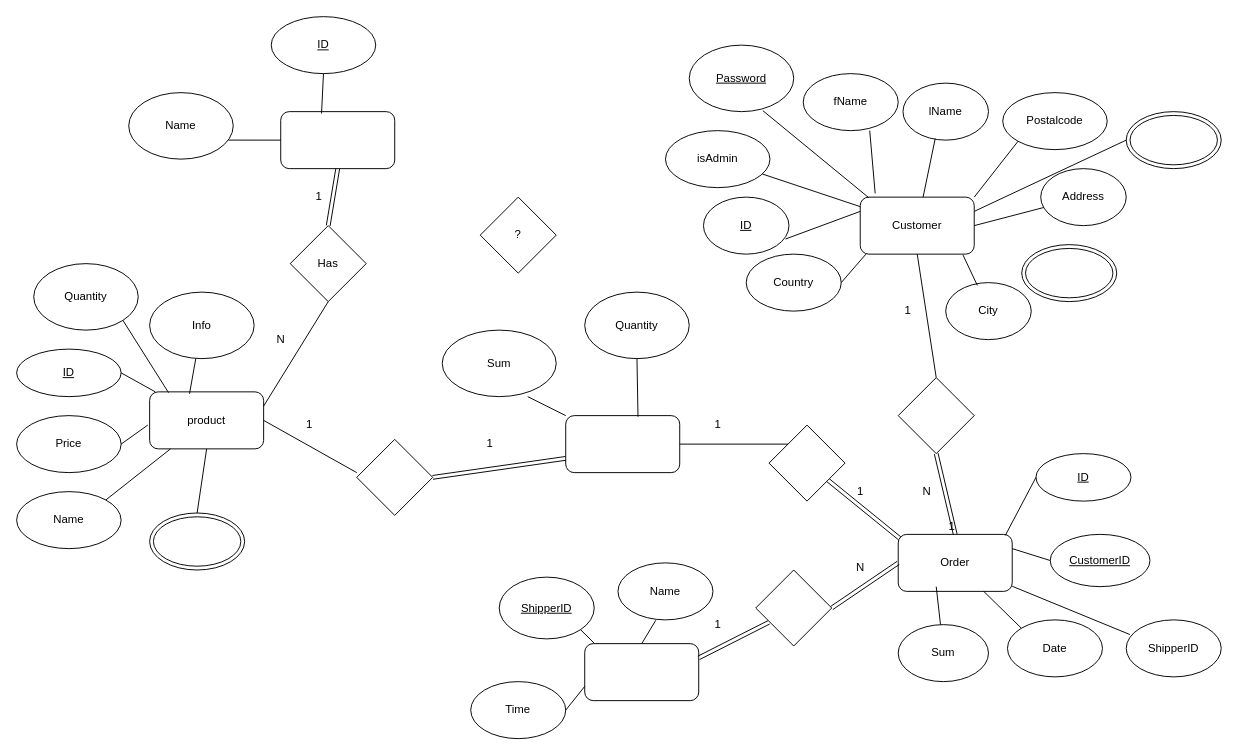
Some shapes in this 1238 by 755 pixel diagram are drawn without their labels. Here are the shapes that lost their labels. From the top down, the centre of each, then its label:
At (337,140): "Category".
At (1173,140): "Email".
At (1069,273): "Phone".
At (935,415): "Places".
At (622,444): "OrderDetails".
At (806,462): "Includs".
At (394,476): "Includes".
At (197,541): "Image".
At (793,607): "Sends".
At (641,672): "Shipper".
